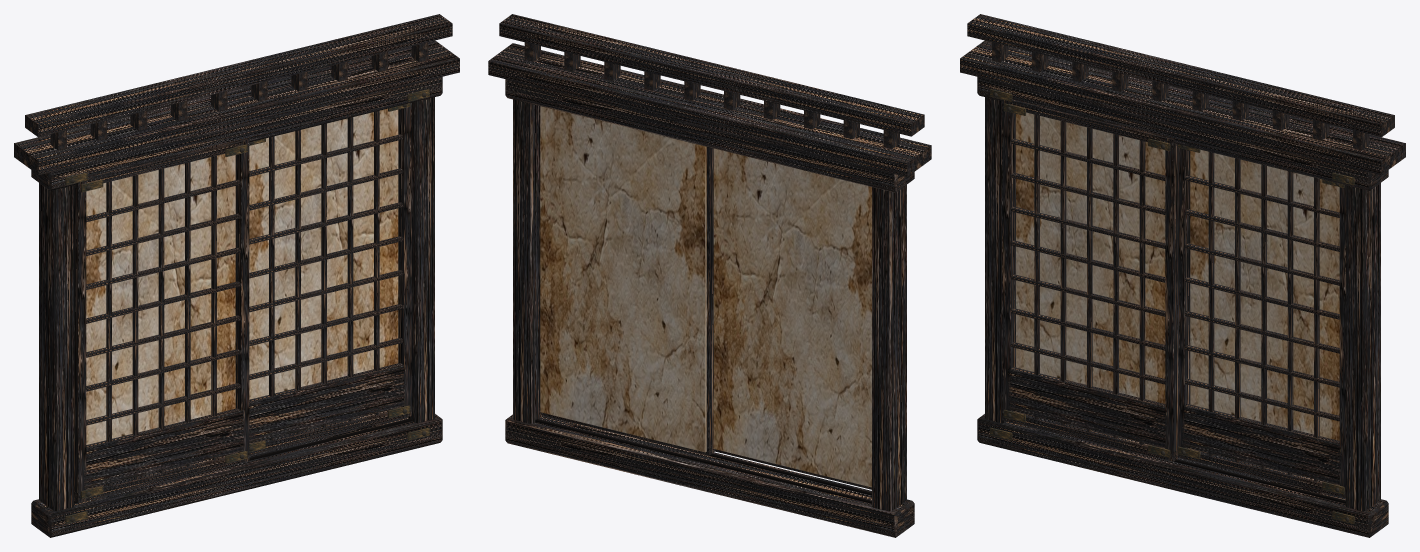
Rendered from nyanisyarud-hyakken-shoji.glb.
The picture shows the model from 3 angles, left to right: view 1: azimuth 30°, elevation 25°; view 2: azimuth 150°, elevation 25°; view 3: azimuth 330°, elevation 25°; orthographic projection.
Parts seen in each view (by area): view 1: Frame, Shoji_Left, Shoji_Right; view 2: Frame, Shoji_Right, Shoji_Left; view 3: Frame, Shoji_Left, Shoji_Right.
Part boxes in pixels (box(x1,y1,x2,y2)): Frame: box(14, 14, 459, 537); Shoji_Left: box(74, 138, 249, 502); Shoji_Right: box(249, 103, 411, 455); Frame: box(488, 14, 931, 537); Shoji_Right: box(539, 106, 714, 455); Shoji_Left: box(713, 148, 871, 489); Frame: box(960, 14, 1405, 537); Shoji_Left: box(1002, 99, 1178, 461); Shoji_Right: box(1178, 144, 1345, 498).
Size of the model in its own units: 3.15 by 2.97 by 0.3316.
5 materials, 5 textured.
